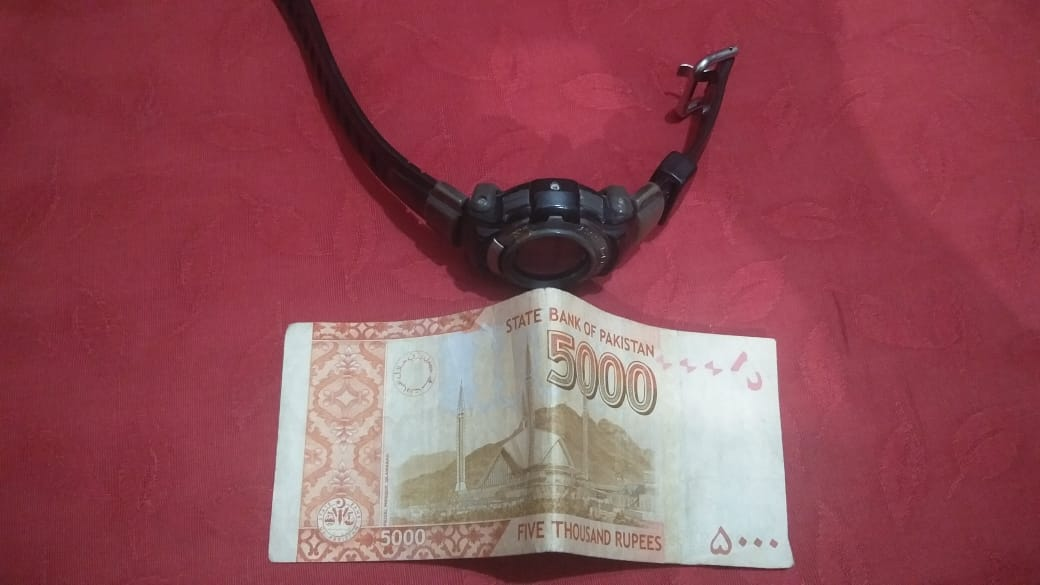5000 rupee: (272, 286, 802, 581)
